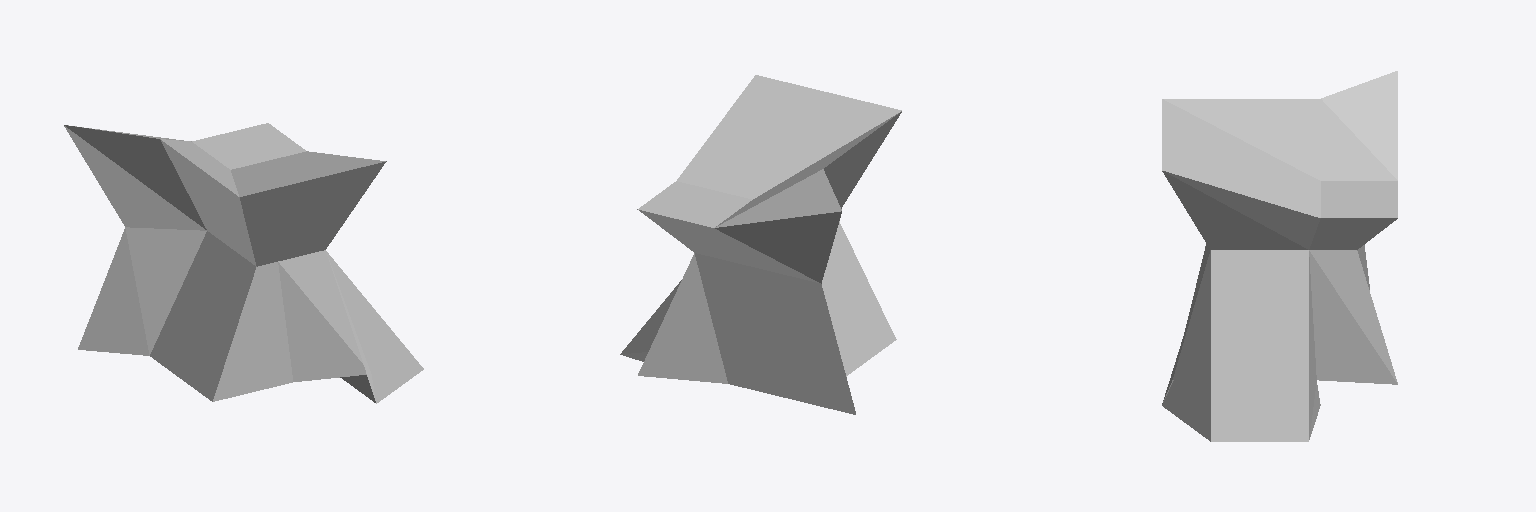
File: ShapeQuad.obj
3 renders of one model, left to right at view 1: azimuth 30°, elevation 25°; view 2: azimuth 150°, elevation 25°; view 3: azimuth 270°, elevation 25°, orthographic.
Parts seen in each view (by area): view 1: Cube; view 2: Cube; view 3: Cube.
Part boxes in pixels (left/top/right/bottom): Cube: left=64, top=123, right=423, bottom=403; Cube: left=620, top=75, right=901, bottom=414; Cube: left=1162, top=71, right=1397, bottom=441.
Bounding box in the file's own units: 2.61 × 2.25 × 2.